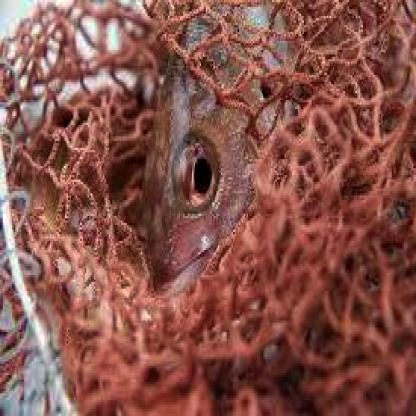net: (35, 2, 416, 416)
